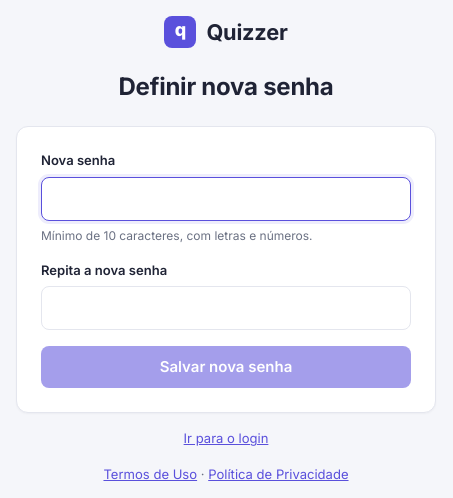
it: Recuperação de senha (ADR-0041) › redefinição exige senha forte e confirmação igual
Type "semnumeros" into the password field labelled "Nova senha".
click(226, 199); type("semnumeros")  # box [41,177,411,221]
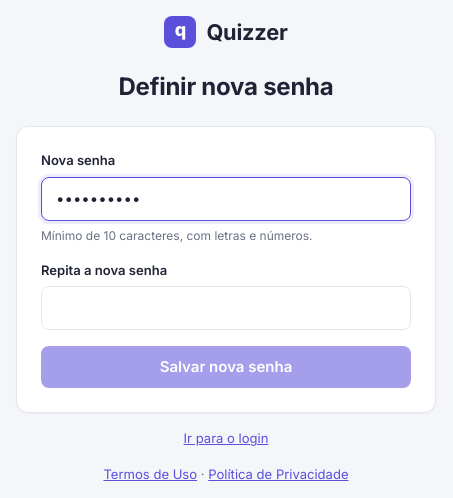
Expected: the button "Salvar nova senha" is disabled, [41,346,411,388]
Type "SenhaForte2026" into the password field labelled "Nova senha".
click(226, 199); type("SenhaForte2026")  # box [41,177,411,221]
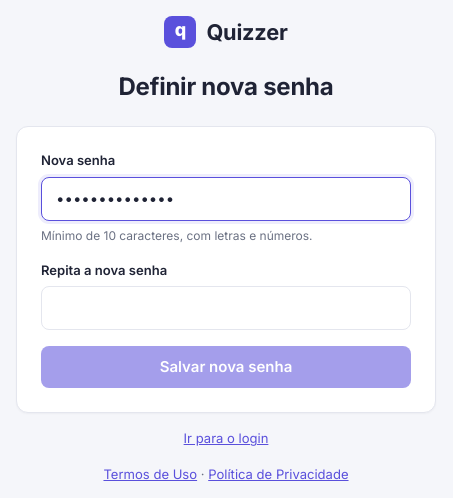
Type "SenhaForte2026" into the password field labelled "Repita a nova senha".
click(226, 308); type("SenhaForte2026")  # box [41,286,411,330]
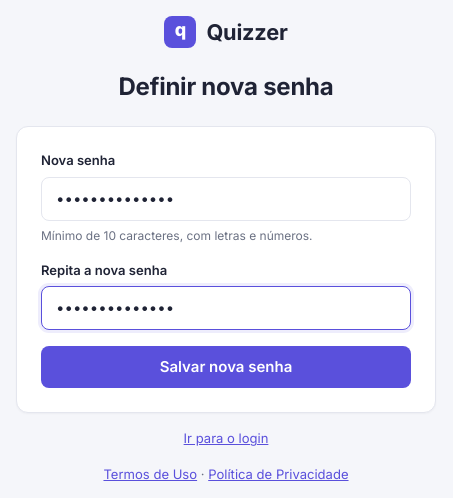
Click the button "Salvar nova senha".
click(226, 367)  # box [41,346,411,388]
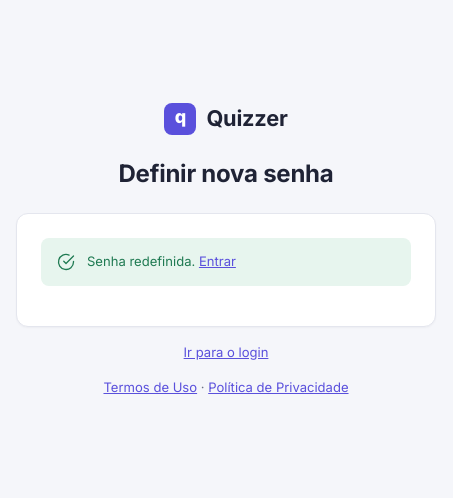
Result: the text "Senha redefinida. Entrar" is shown at [87,252,236,272]
